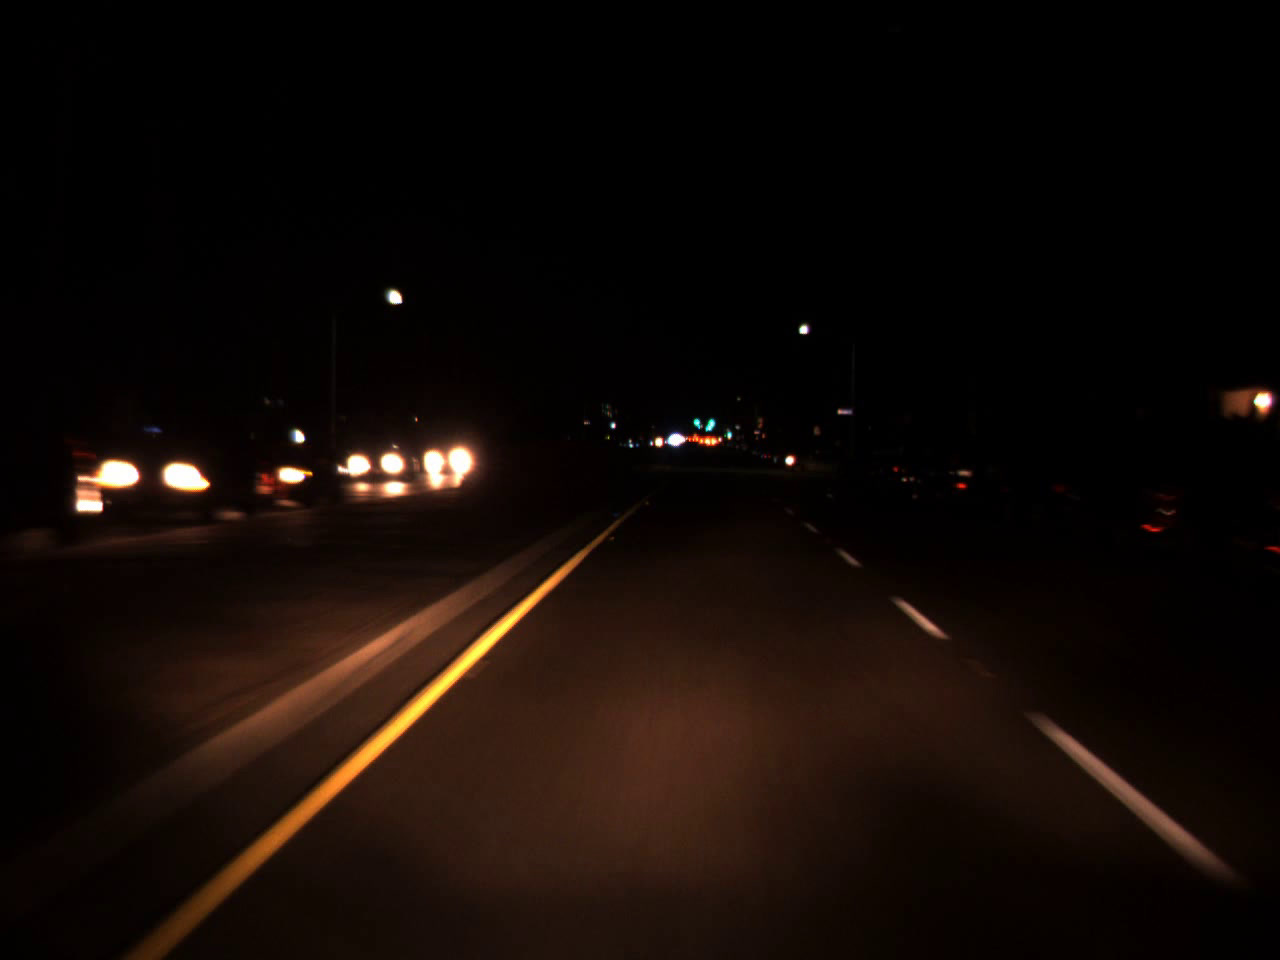go: (691, 405, 701, 432), (703, 409, 716, 430), (725, 426, 732, 438)
